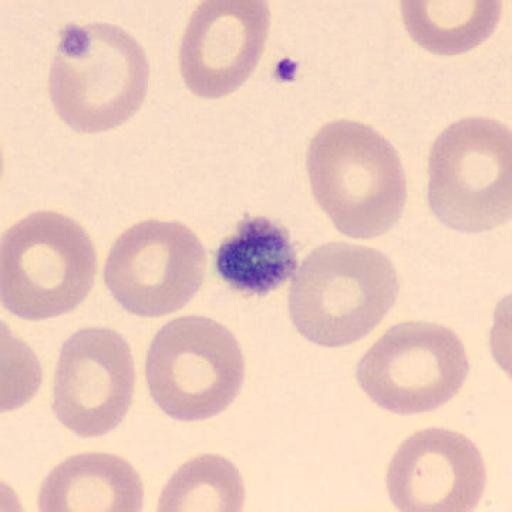Platelet: (210, 212, 302, 298)
RBC: (304, 116, 410, 244), (285, 238, 401, 349), (46, 19, 152, 135), (354, 317, 472, 418), (142, 312, 246, 424), (100, 216, 208, 320), (2, 208, 99, 322), (425, 113, 512, 235), (50, 324, 138, 440), (178, 0, 272, 100), (383, 424, 489, 512), (36, 450, 146, 512), (398, 0, 504, 58), (153, 451, 248, 512), (2, 319, 44, 414), (488, 288, 512, 386), (0, 474, 27, 512)
